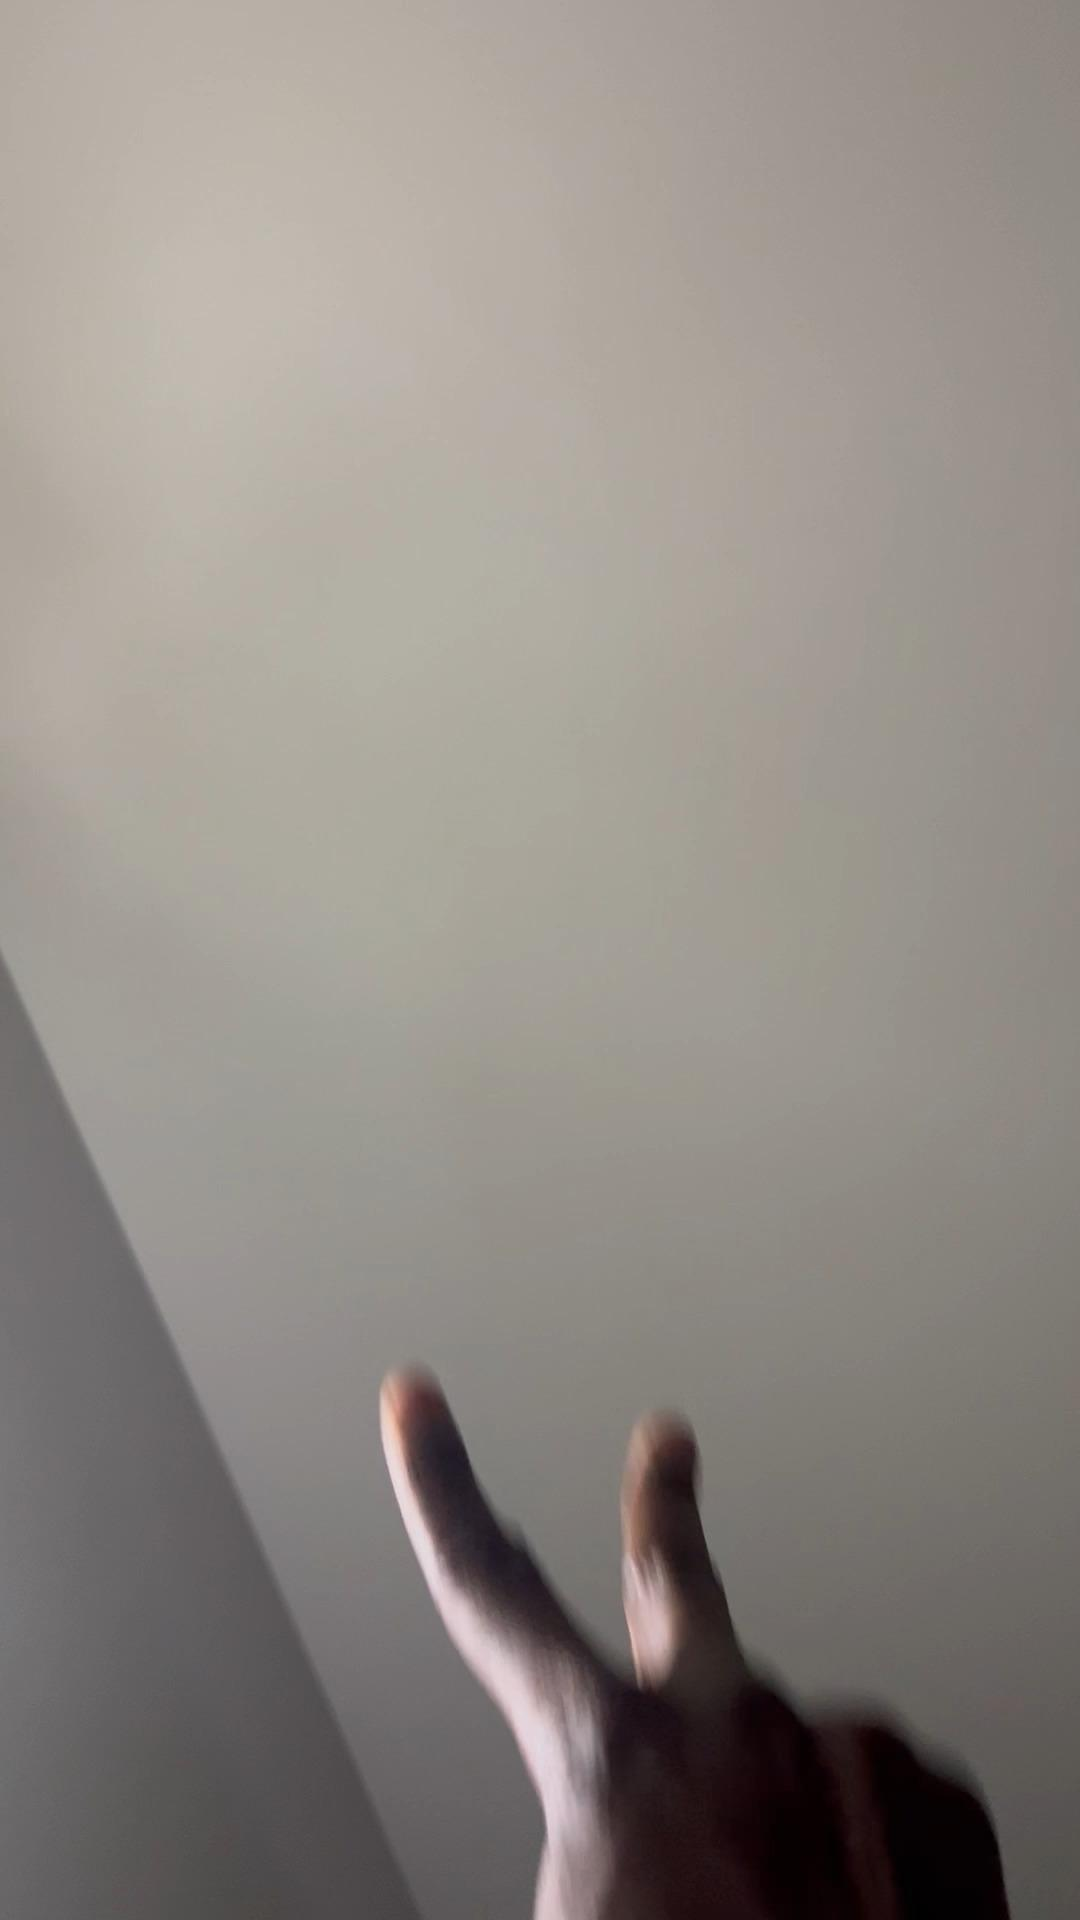Scissors: (380, 1367, 1013, 1920)
